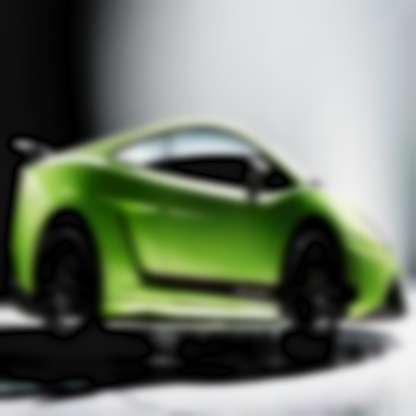Vehicle: (6, 118, 409, 356)
